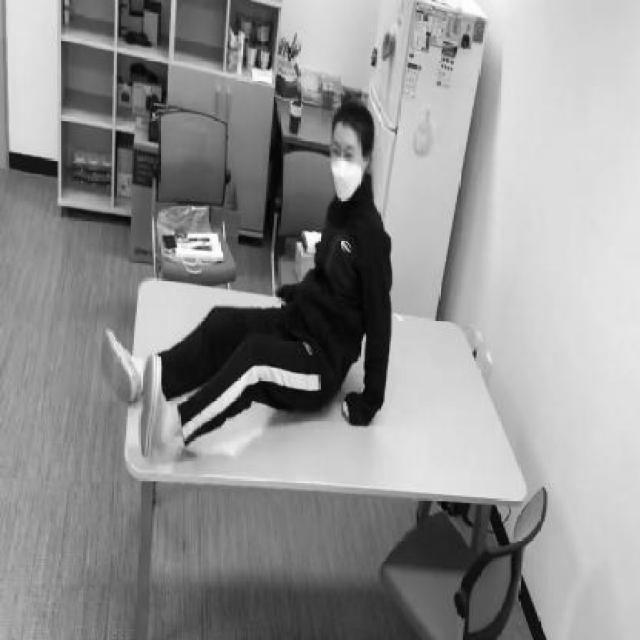person: (101, 96, 394, 459)
